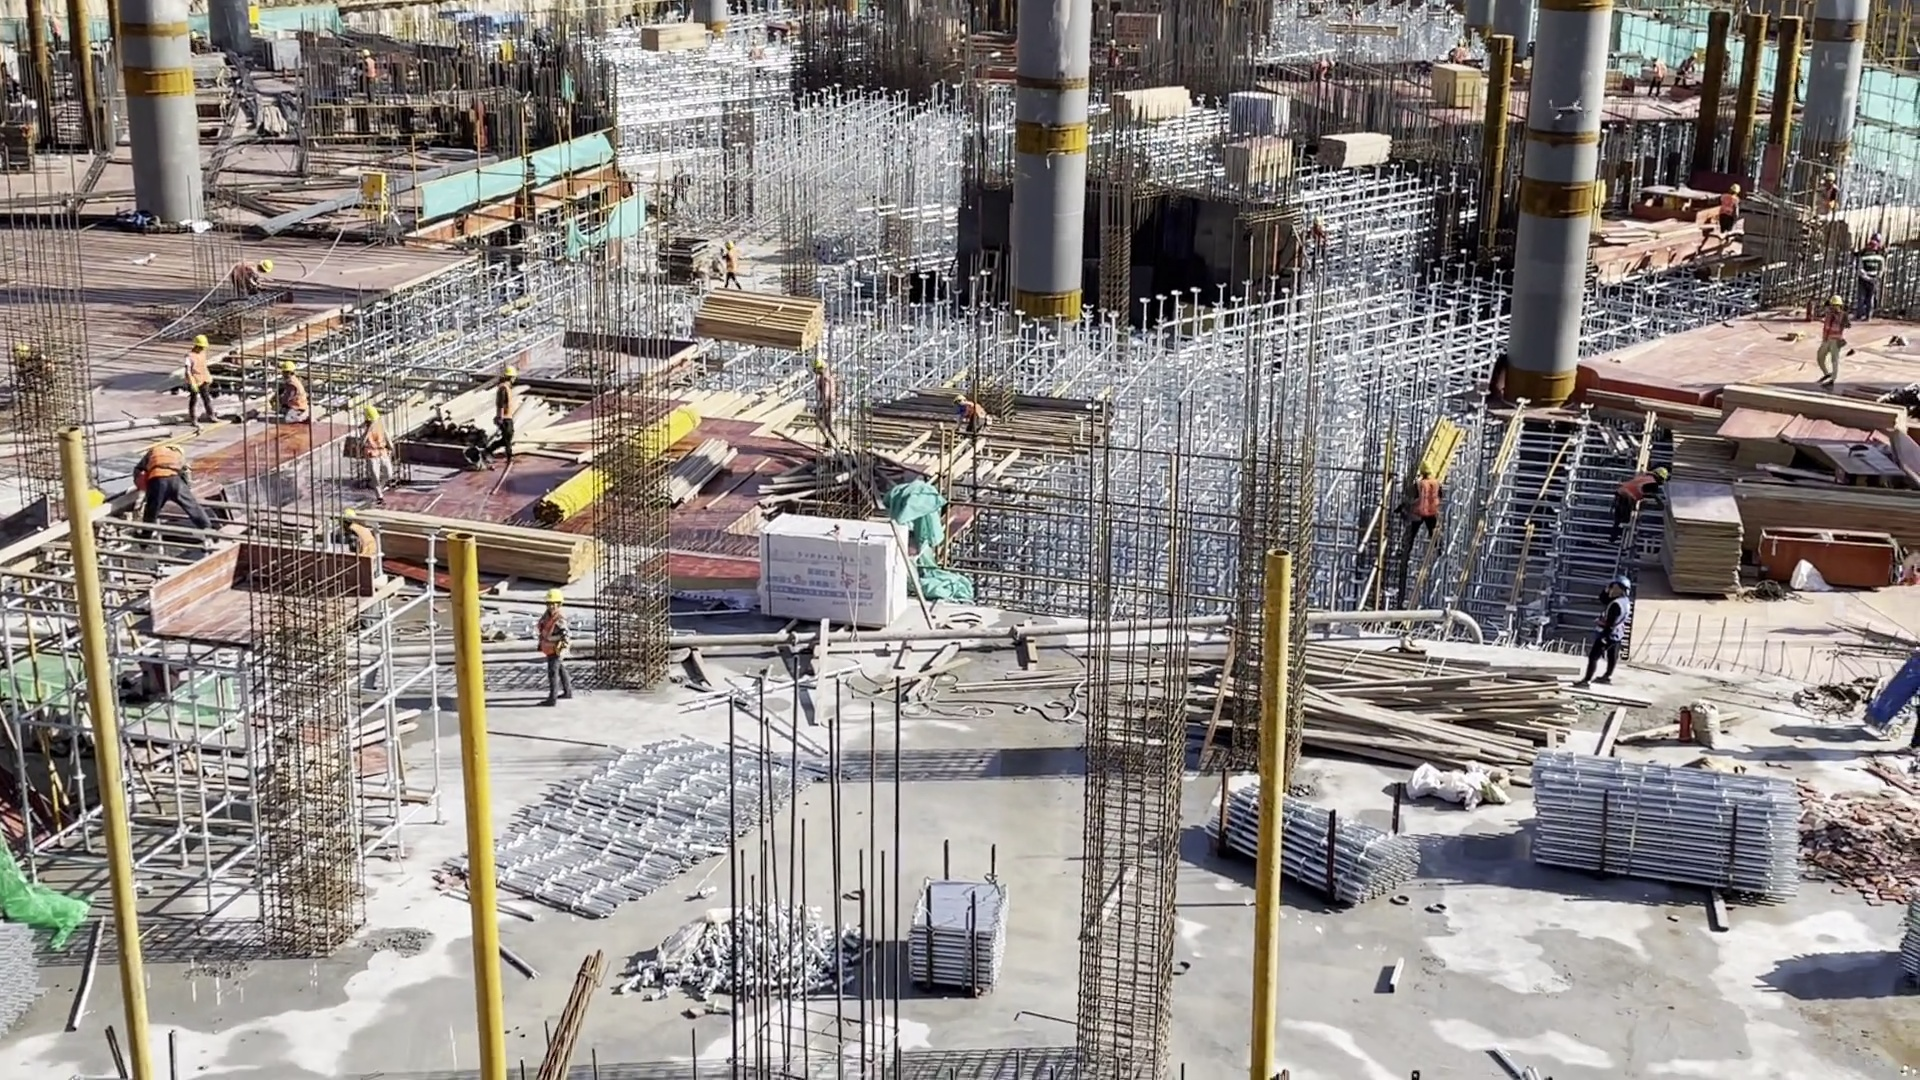helmet: (541, 589, 564, 606), (191, 332, 212, 351), (1415, 459, 1435, 478), (1610, 575, 1631, 591), (363, 405, 383, 419), (1653, 464, 1669, 481), (260, 258, 274, 274), (812, 358, 829, 370), (1829, 293, 1844, 306), (500, 366, 517, 377), (279, 362, 294, 374), (954, 392, 967, 404), (1729, 182, 1741, 192)
person: (119, 431, 210, 541), (1578, 575, 1634, 692), (1407, 461, 1446, 585), (531, 588, 570, 711), (352, 403, 395, 505), (1607, 464, 1668, 528), (1815, 296, 1850, 396), (180, 330, 214, 429), (487, 366, 519, 464), (332, 500, 380, 564), (806, 360, 840, 444), (267, 358, 310, 423), (232, 256, 272, 301), (956, 394, 991, 442), (1719, 179, 1749, 237), (718, 240, 745, 299), (1815, 169, 1838, 213), (361, 52, 378, 107)
vest: (141, 445, 188, 491), (532, 611, 568, 664), (1599, 595, 1628, 647), (363, 418, 391, 460), (185, 351, 211, 396), (348, 524, 381, 556), (1619, 474, 1655, 503), (1416, 480, 1440, 520), (493, 382, 514, 426), (1822, 307, 1846, 345), (230, 265, 260, 294), (275, 378, 305, 409), (818, 377, 836, 412), (964, 402, 988, 423), (1721, 192, 1738, 221), (339, 507, 357, 523)
